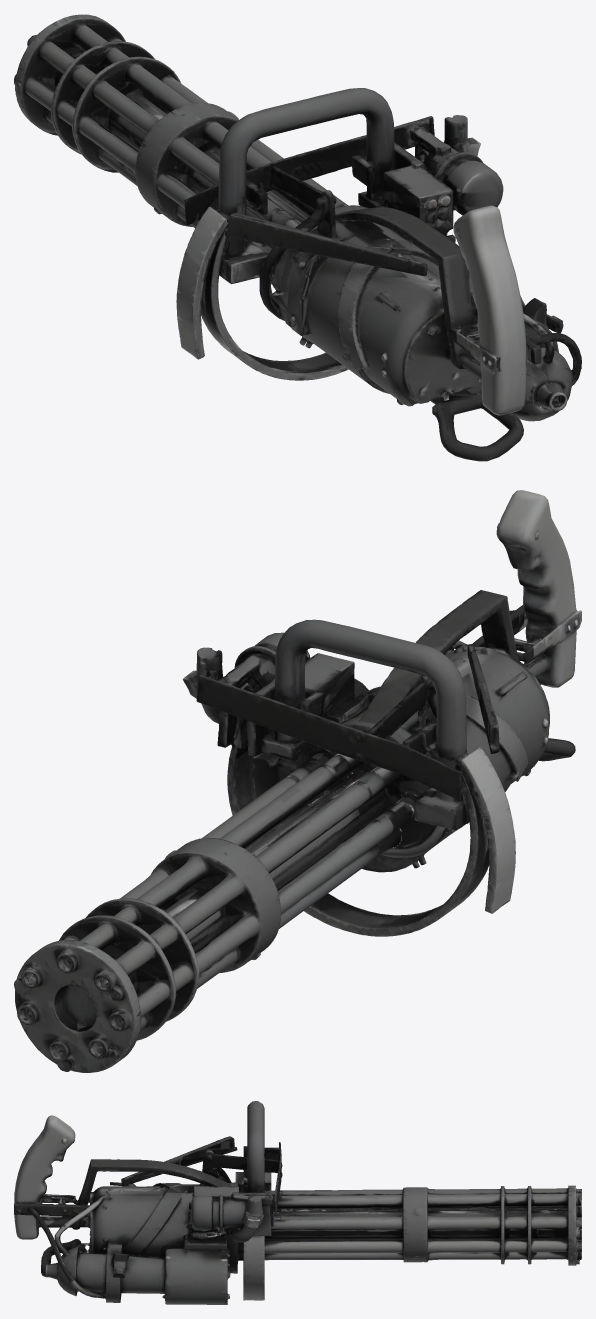
File: minigun.glb
3 views of the same model, one above another, from view 1: azimuth 30°, elevation 25°; view 2: azimuth 150°, elevation 25°; view 3: azimuth 270°, elevation 25° (orthographic). The views are drawn at different scales.
Visible parts, largest first — view 1: MINIGUN, minigun_barrels_Mesh_0.001; view 2: MINIGUN, minigun_barrels_Mesh_0.001; view 3: MINIGUN, minigun_barrels_Mesh_0.001.
Part boxes in pixels (x1,y1,x2,y2): MINIGUN: (176,88,581,461); minigun_barrels_Mesh_0.001: (14,14,347,284); MINIGUN: (183,490,581,936); minigun_barrels_Mesh_0.001: (14,749,417,1072); MINIGUN: (14,1101,282,1304); minigun_barrels_Mesh_0.001: (238,1185,581,1265).
Bounding box in the file's own units: 0.3561 × 0.3239 × 0.9498.
Materials: 1 (1 with a texture image).
